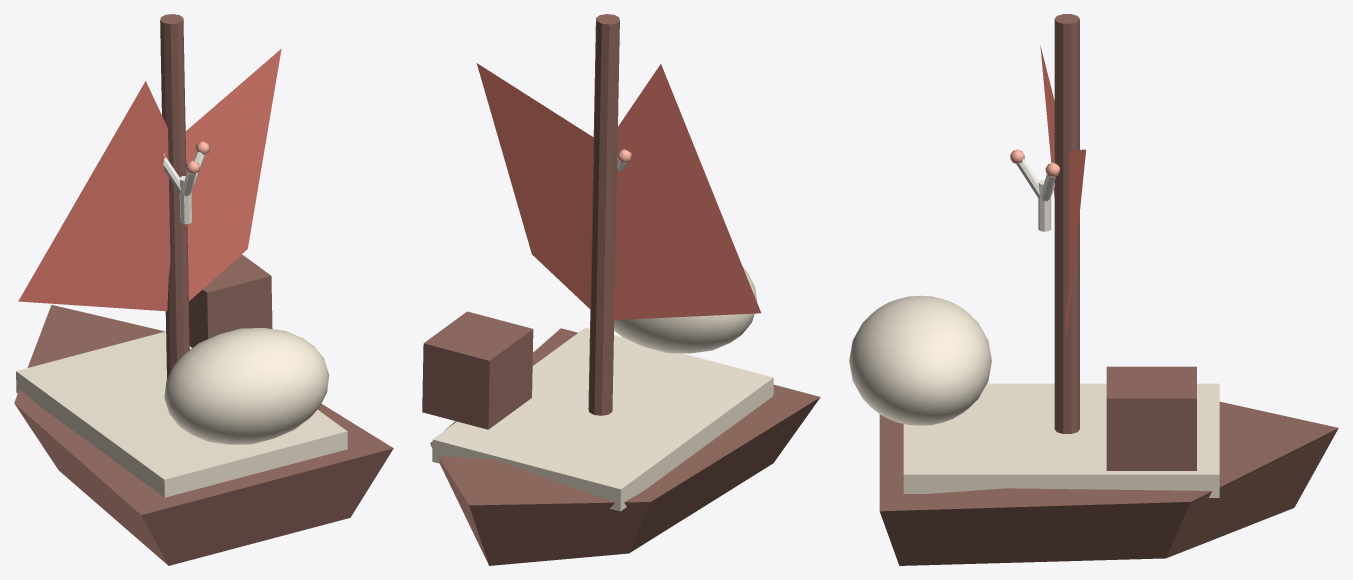
File: colonizer-coral.glb
The picture shows the model from 3 angles, left to right: view 1: azimuth 30°, elevation 25°; view 2: azimuth 150°, elevation 25°; view 3: azimuth 270°, elevation 25°; orthographic projection. The views are drawn at different scales.
Parts seen in each view (by area): view 1: Distinctive sail, Carved hull, Pearl deck, Nacre shell, Mast, Settlement crates; view 2: Distinctive sail, Pearl deck, Carved hull, Settlement crates, Mast, Nacre shell; view 3: Carved hull, Pearl deck, Nacre shell, Settlement crates, Mast, Distinctive sail.
Boxes of the visible parts, box(x1,y1,x2,y2) form: Distinctive sail: box(18, 49, 281, 311); Carved hull: box(14, 304, 393, 565); Pearl deck: box(16, 331, 347, 497); Nacre shell: box(164, 328, 328, 444); Mast: box(160, 14, 189, 378); Settlement crates: box(189, 254, 272, 347); Distinctive sail: box(476, 63, 760, 320); Pearl deck: box(432, 327, 773, 511); Carved hull: box(430, 328, 820, 565); Settlement crates: box(422, 311, 533, 429); Mast: box(588, 14, 619, 415); Nacre shell: box(614, 267, 756, 353); Carved hull: box(879, 401, 1338, 565); Pearl deck: box(903, 383, 1219, 497); Nacre shell: box(849, 295, 991, 425); Settlement crates: box(1106, 366, 1196, 470); Mast: box(1054, 14, 1079, 433); Distinctive sail: box(1040, 45, 1085, 331).
Bounding box in the file's own units: 1.24 × 1.95 × 1.74.
